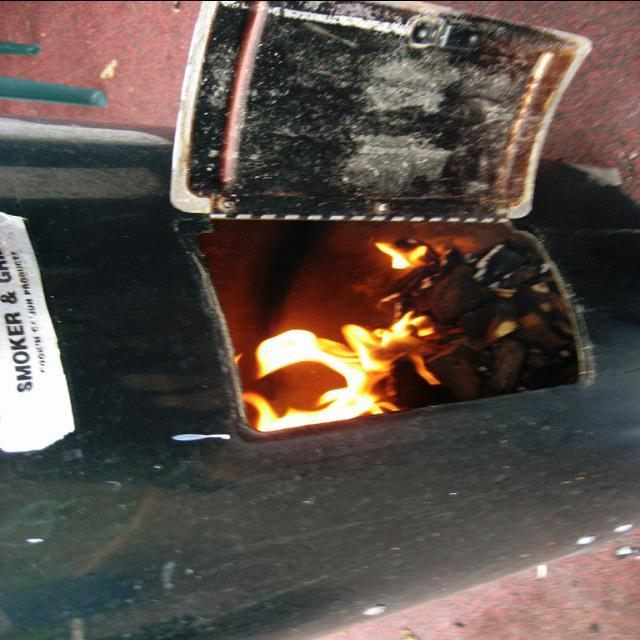Fire: (223, 234, 447, 430)
